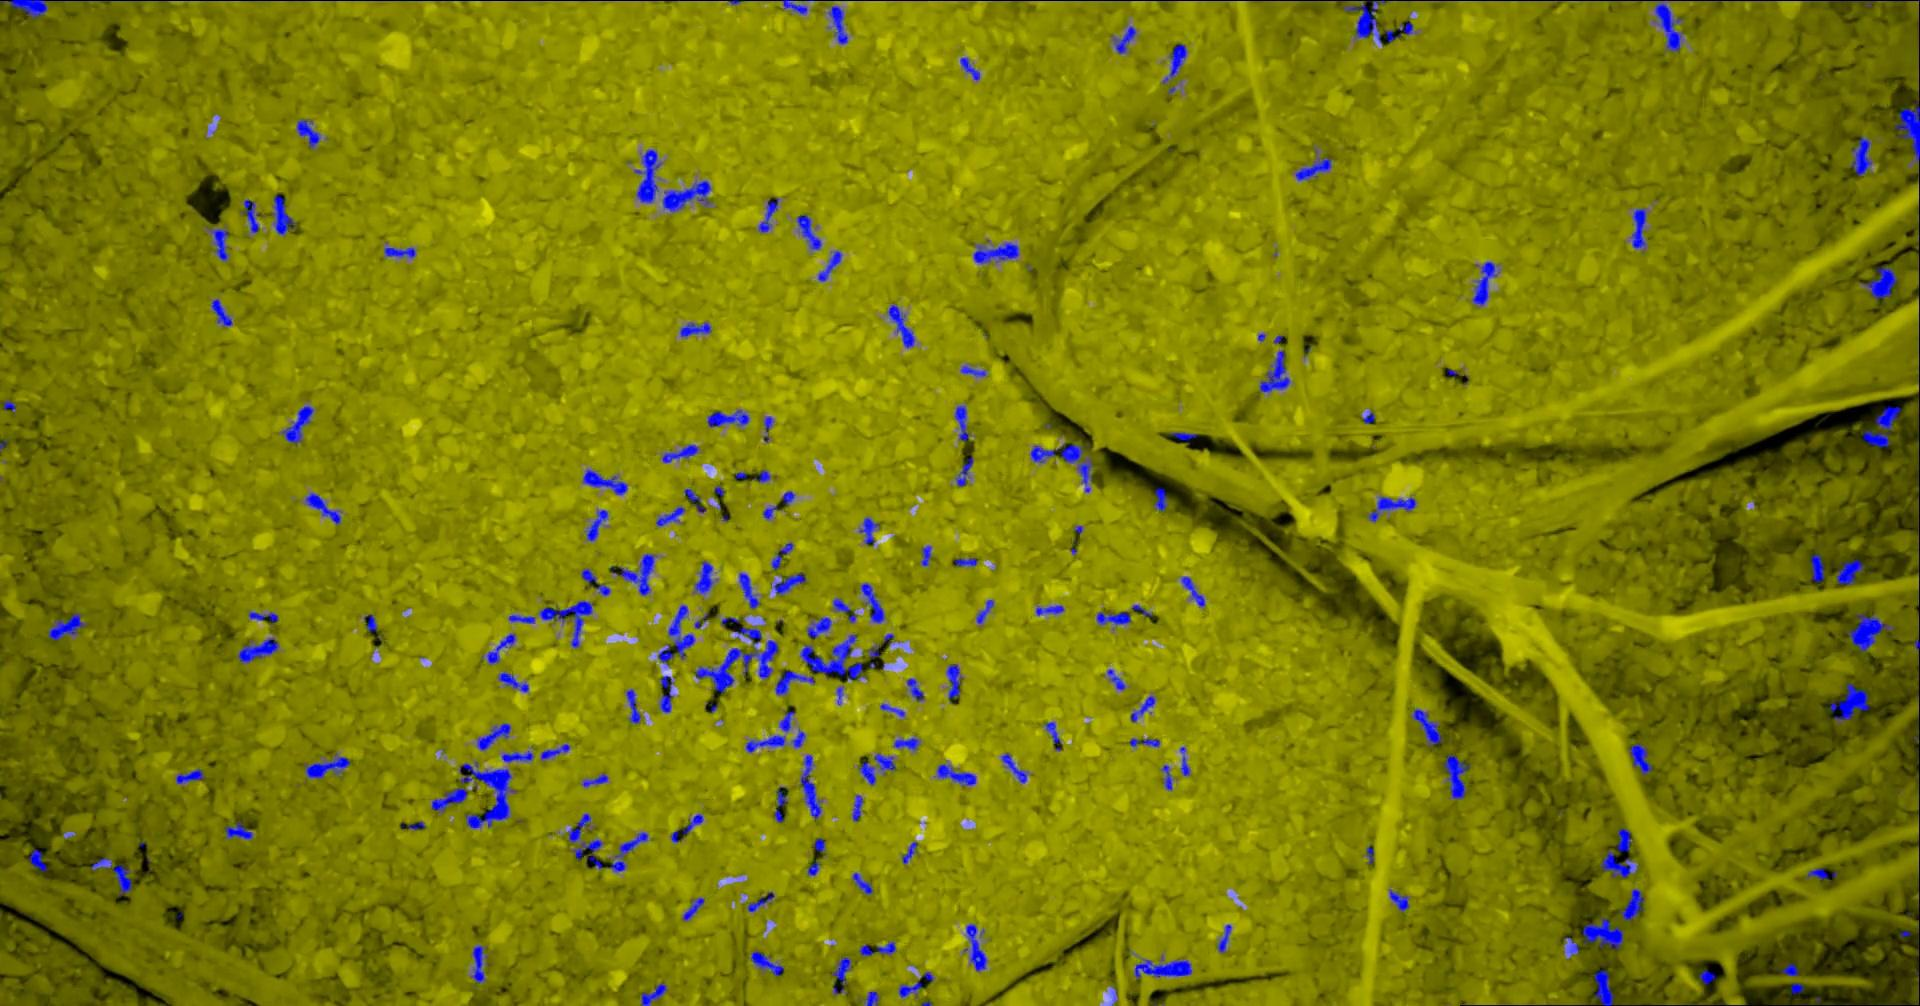ant: (1029, 442, 1092, 492), (538, 600, 593, 647), (657, 605, 695, 666), (1335, 0, 1387, 44), (745, 709, 794, 752), (1895, 97, 1919, 180), (610, 553, 657, 594), (1848, 614, 1893, 652), (1829, 683, 1869, 723), (1862, 405, 1900, 447), (632, 149, 662, 203), (662, 180, 711, 212), (0, 0, 88, 18), (90, 857, 131, 894), (1653, 0, 1683, 51), (799, 754, 822, 818), (1133, 954, 1191, 978), (1258, 349, 1290, 392), (279, 405, 312, 445), (1582, 917, 1623, 949), (886, 304, 914, 348), (1443, 754, 1470, 799), (303, 492, 340, 525), (1411, 708, 1443, 746), (1368, 495, 1415, 521), (582, 469, 627, 494), (47, 611, 86, 640), (963, 923, 987, 970), (1862, 265, 1896, 298), (1470, 260, 1496, 305), (1599, 848, 1637, 878), (303, 754, 349, 779), (481, 633, 516, 664), (1161, 43, 1187, 83), (237, 636, 278, 662), (775, 669, 814, 695), (898, 970, 935, 997), (860, 582, 884, 622), (670, 813, 703, 842), (476, 721, 510, 749), (971, 243, 1018, 263), (270, 194, 295, 234), (1295, 154, 1331, 180), (935, 763, 975, 786), (796, 213, 822, 249), (1849, 135, 1870, 175), (204, 225, 229, 260), (999, 752, 1027, 782), (750, 950, 783, 976), (1619, 888, 1644, 920), (827, 5, 847, 44), (738, 572, 759, 608), (770, 573, 806, 594), (582, 568, 610, 596), (1592, 967, 1613, 1005), (706, 409, 749, 427), (240, 198, 262, 232), (296, 118, 320, 149), (817, 250, 841, 281), (1180, 575, 1204, 606), (830, 956, 850, 995), (758, 197, 778, 232), (470, 945, 488, 986), (1385, 15, 1412, 42), (1835, 559, 1863, 584), (1629, 743, 1652, 774), (585, 509, 607, 541), (1630, 207, 1646, 251), (1130, 695, 1156, 721), (1111, 25, 1135, 53), (498, 671, 528, 692), (662, 445, 698, 462), (210, 298, 232, 326), (640, 982, 667, 1005), (655, 506, 684, 526), (695, 560, 712, 593), (832, 598, 856, 622), (946, 664, 961, 702), (771, 542, 792, 569), (858, 517, 879, 545), (747, 890, 775, 911), (1803, 0, 1877, 8), (858, 941, 895, 956), (683, 488, 706, 512), (955, 456, 973, 486), (659, 674, 673, 713), (223, 821, 251, 840), (502, 746, 533, 762), (954, 405, 969, 439), (625, 688, 640, 723), (681, 897, 703, 920), (806, 616, 830, 638), (1044, 721, 1062, 751), (773, 786, 787, 822), (874, 752, 895, 775), (679, 321, 711, 337), (540, 743, 569, 760), (1096, 611, 1130, 625), (1388, 889, 1410, 911), (959, 57, 979, 80), (1804, 868, 1836, 882), (852, 873, 872, 894), (905, 678, 924, 701), (28, 848, 47, 871), (175, 768, 204, 782), (975, 600, 993, 622), (858, 761, 875, 785), (1810, 553, 1823, 580), (1217, 923, 1230, 951), (248, 611, 278, 624), (1106, 668, 1125, 688), (582, 772, 607, 788), (383, 246, 415, 258), (782, 0, 808, 14), (879, 702, 904, 716), (1617, 828, 1632, 851), (902, 841, 917, 864), (893, 737, 919, 749), (851, 794, 863, 821), (1153, 486, 1167, 511), (1178, 746, 1190, 775), (790, 727, 805, 747), (1129, 737, 1159, 747), (857, 991, 879, 1005), (960, 365, 985, 376), (867, 645, 880, 668), (1035, 605, 1063, 615), (1777, 963, 1798, 976), (763, 415, 773, 442), (1161, 763, 1171, 790), (1698, 969, 1716, 984), (1564, 936, 1578, 954), (919, 545, 931, 567), (1170, 431, 1196, 439), (508, 614, 535, 622), (762, 504, 777, 520), (806, 859, 820, 875), (363, 614, 376, 631), (952, 558, 977, 567), (401, 821, 425, 829), (781, 490, 795, 506), (753, 469, 770, 481), (813, 837, 825, 852), (3, 399, 15, 412), (1790, 982, 1803, 995), (1365, 845, 1373, 862)
